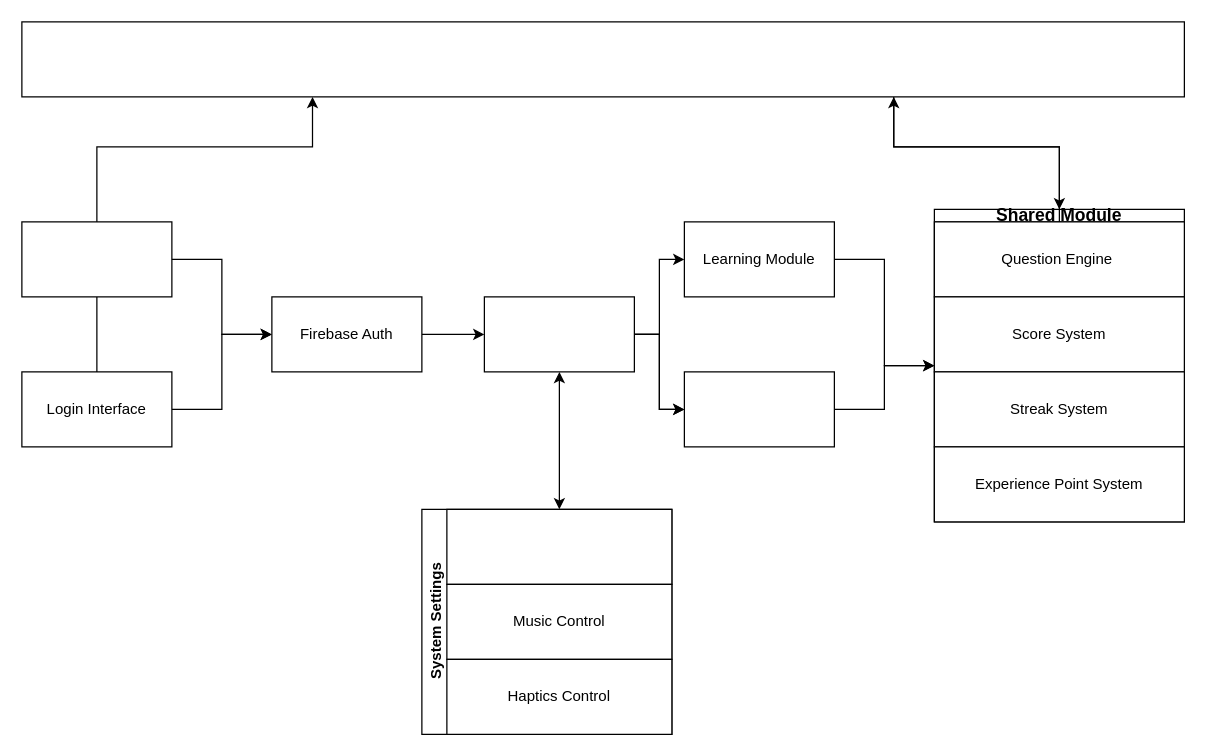
The diagram is 1206 pixels wide and 756 high, and some of its shapes have lost their labels. Each missing label, with the centre of its shape:
"Challenge Module" belongs at point (758, 409).
"Dashboard" belongs at point (558, 334).
"FireBase FireStrore Database" belongs at point (602, 59).
"Register Interface" belongs at point (96, 259).
"Sound Feedback Control" belongs at point (559, 546).
